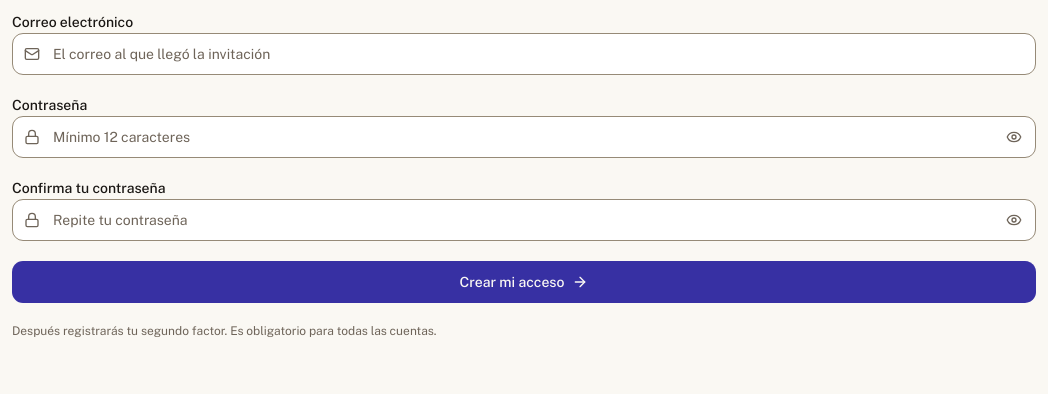
it: AcceptInvitationForm › refuses a password under the 12-character floor the API enforces
The image size is (1048, 394).
Type "ana@despacho.mx" into the field labelled "Correo electrónico" at point(524, 54), box [12,33,1036,75]
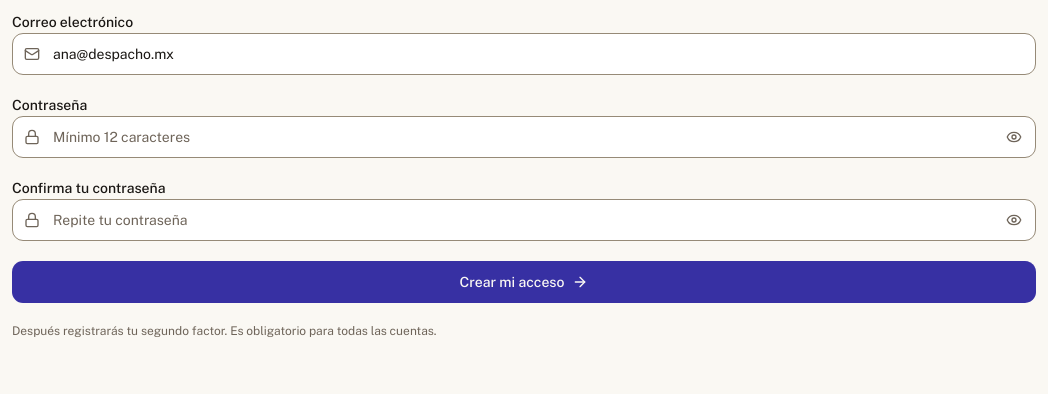
Type "corta" into the password field labelled "Contraseña" at point(524, 137), box [12,116,1036,158]
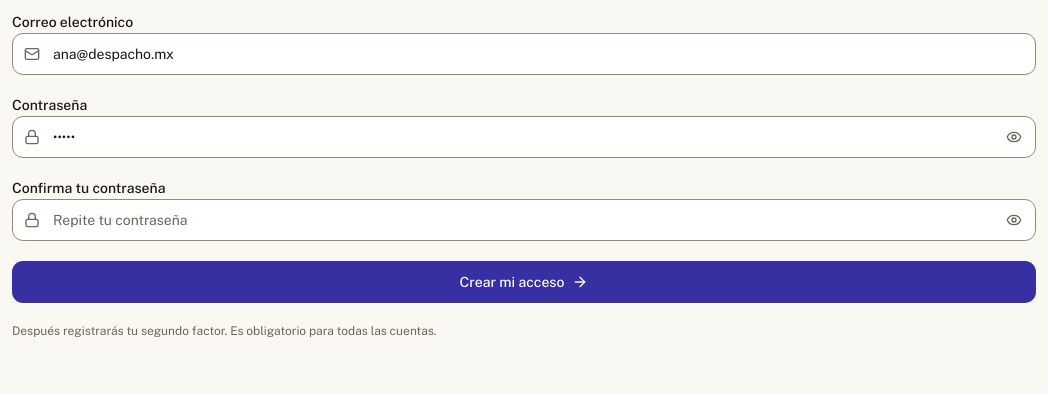
Type "corta" into the password field labelled "Confirma tu contraseña" at point(524, 220), box [12,199,1036,241]
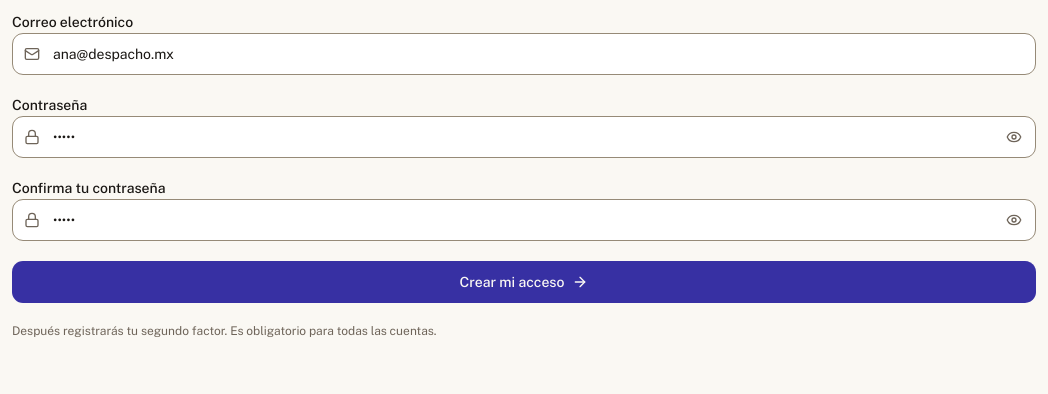
Click the button "Crear mi acceso" at point(524, 282), box [12,261,1036,303]
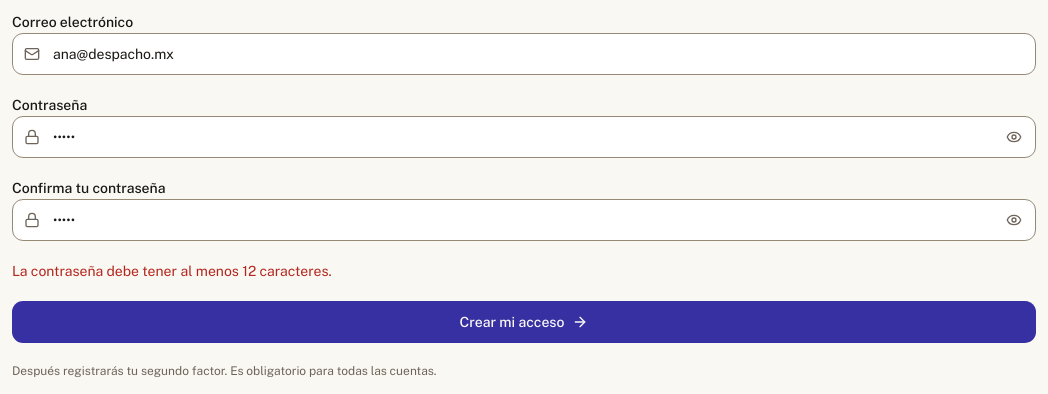
Now the message shows "12 caracteres", box [12,263,332,279]
